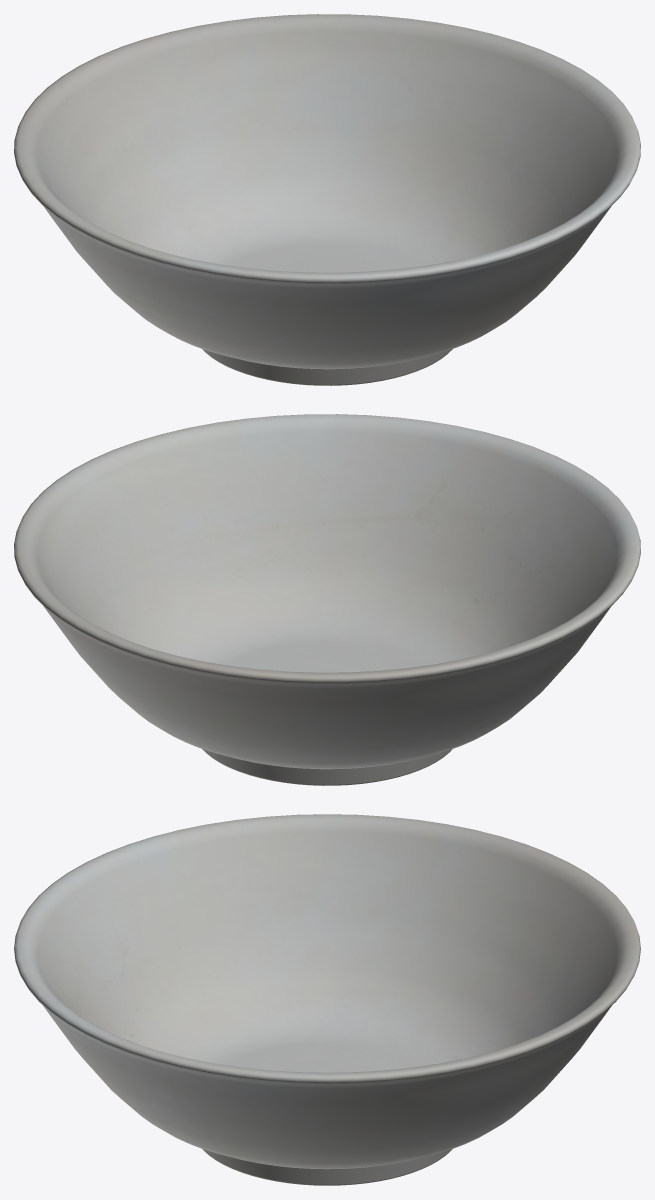
The model's file is beyaz-kase.glb.
3 renders of one model, top to bottom at view 1: azimuth 30°, elevation 25°; view 2: azimuth 150°, elevation 25°; view 3: azimuth 270°, elevation 25°, orthographic.
Visible parts, largest first — view 1: Ceramic Bowl Big; view 2: Ceramic Bowl Big; view 3: Ceramic Bowl Big.
Boxes of the visible parts, x1=… form: Ceramic Bowl Big: x1=14, y1=14, x2=640, y2=385; Ceramic Bowl Big: x1=14, y1=414, x2=640, y2=785; Ceramic Bowl Big: x1=14, y1=814, x2=640, y2=1185.
Bounding box in the file's own units: 0.2448 × 0.0798 × 0.2448.
Materials: 1 (1 with a texture image).
